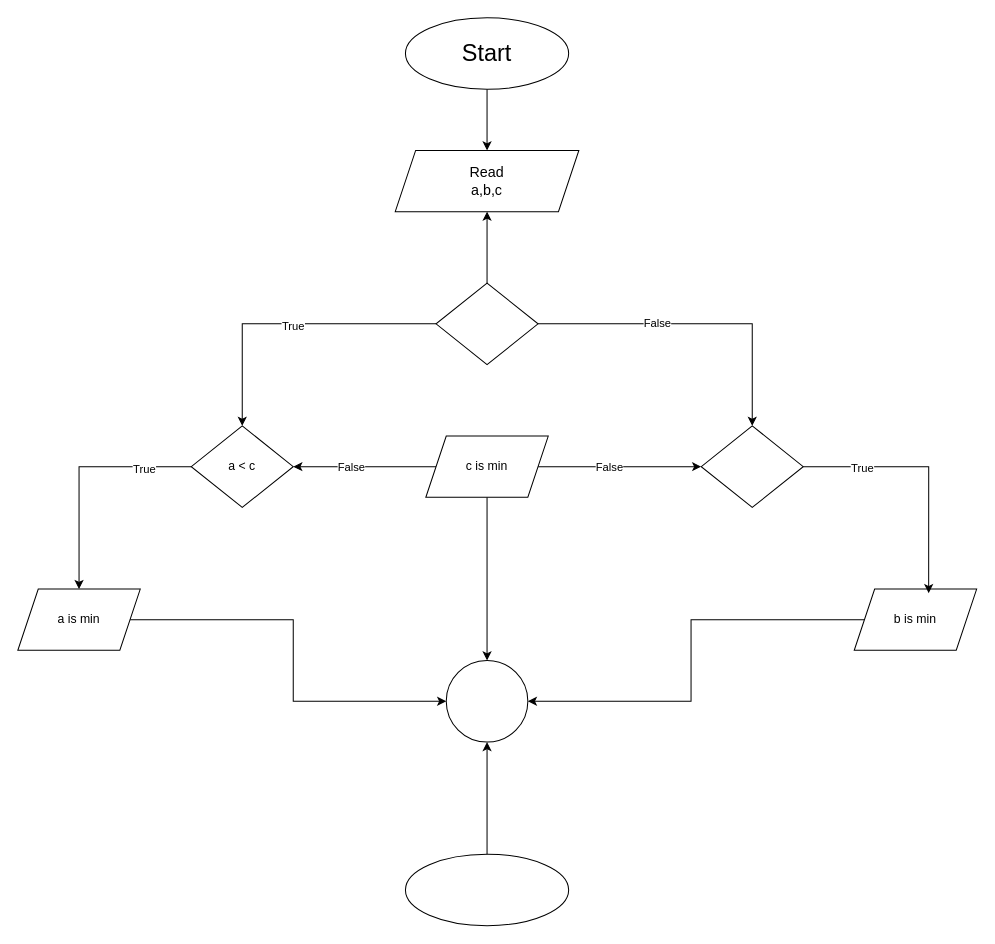
The diagram is 995 pixels wide and 944 high, and some of its shapes have lost their labels. The centre of each missing label's shape, as x and y in pixels:
a < b: the point at 486,323
b< c: the point at 751,466
End: the point at 486,889
